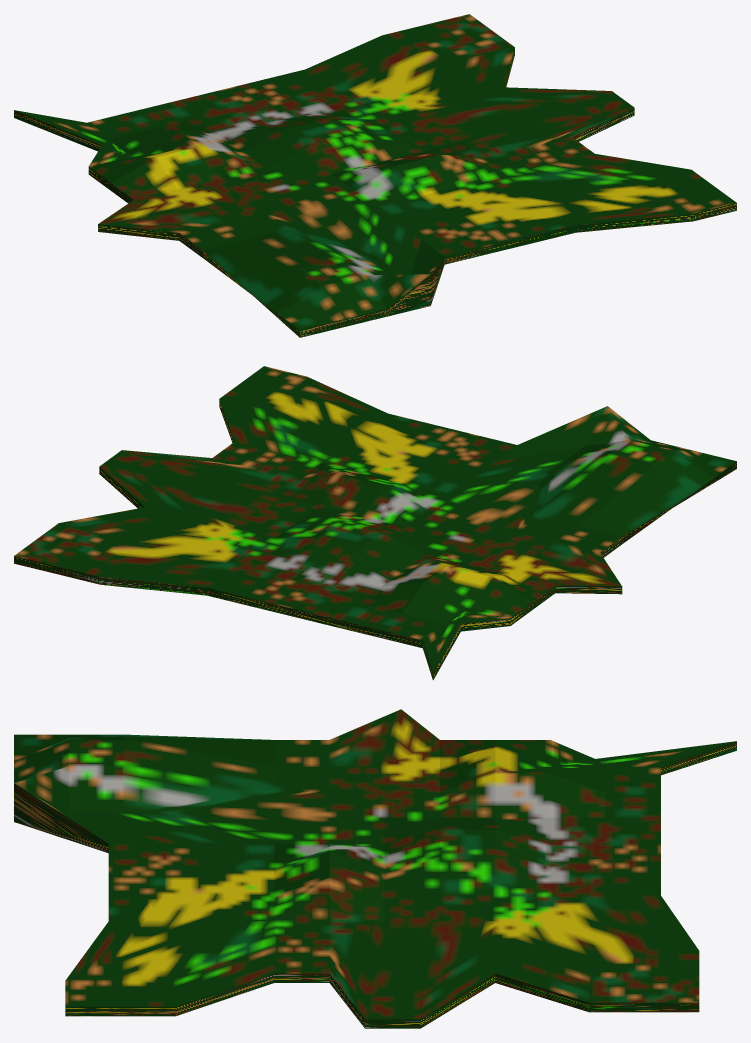
File: mold.glb
3 renders of one model, top to bottom at view 1: azimuth 30°, elevation 25°; view 2: azimuth 150°, elevation 25°; view 3: azimuth 270°, elevation 25°, orthographic. The views are drawn at different scales.
Parts seen in each view (by area): view 1: Cube; view 2: Cube; view 3: Cube.
Boxes of the visible parts, bbox=[...] form: Cube: bbox=[14, 14, 736, 337]; Cube: bbox=[14, 366, 736, 680]; Cube: bbox=[14, 709, 736, 1028].
Bounding box in the file's own units: 2.66 × 0.1551 × 2.62.
1 material, 1 textured.
